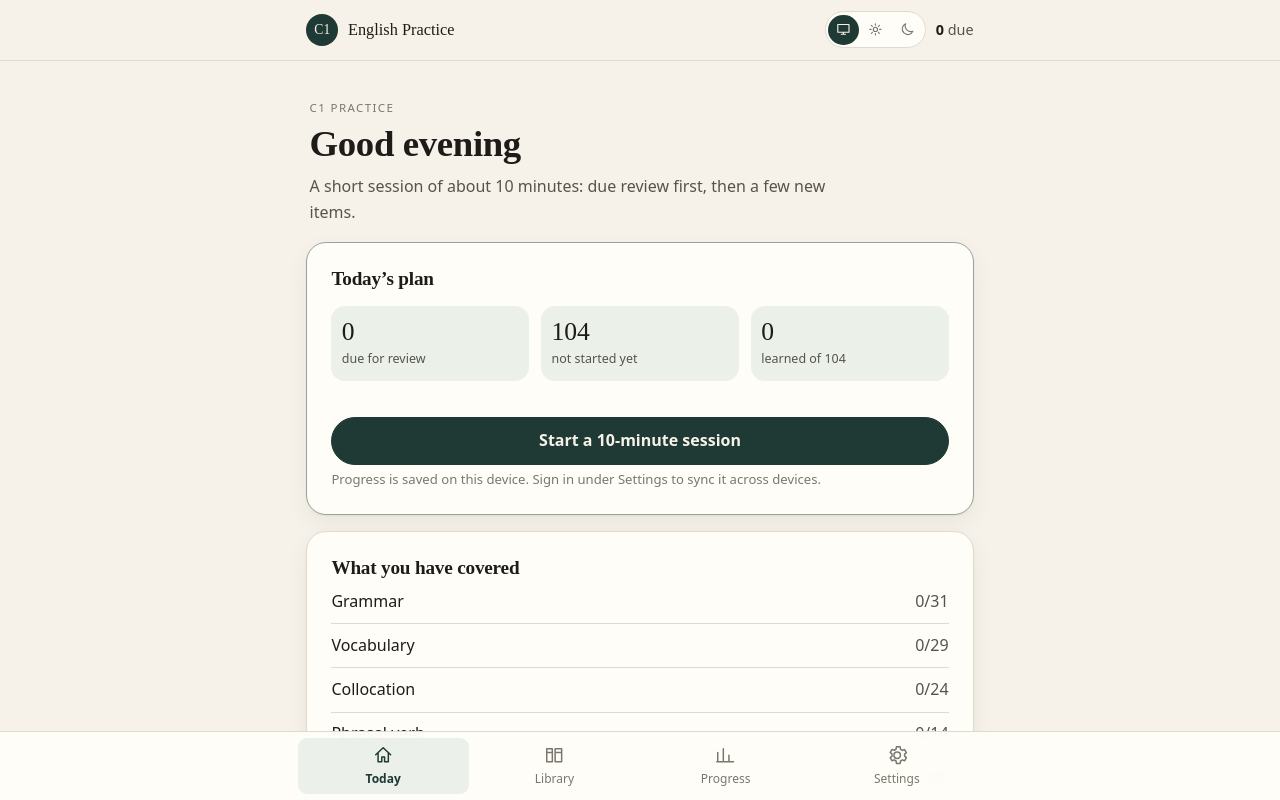
Test: App › offers a working backup export
Click the button "Settings" at (897, 766), box [811, 738, 982, 794]
(page scrolled)
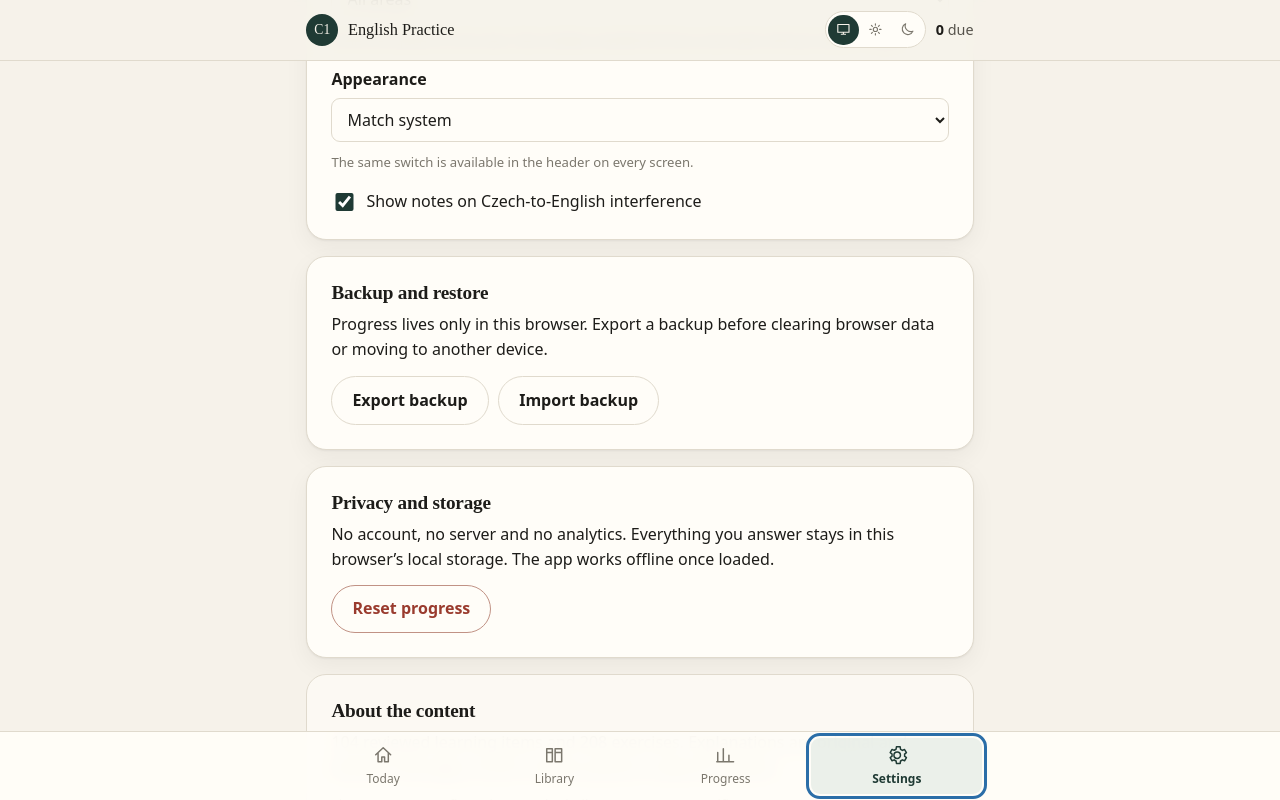
Click the button "Export backup" at (410, 401), box [331, 376, 489, 425]
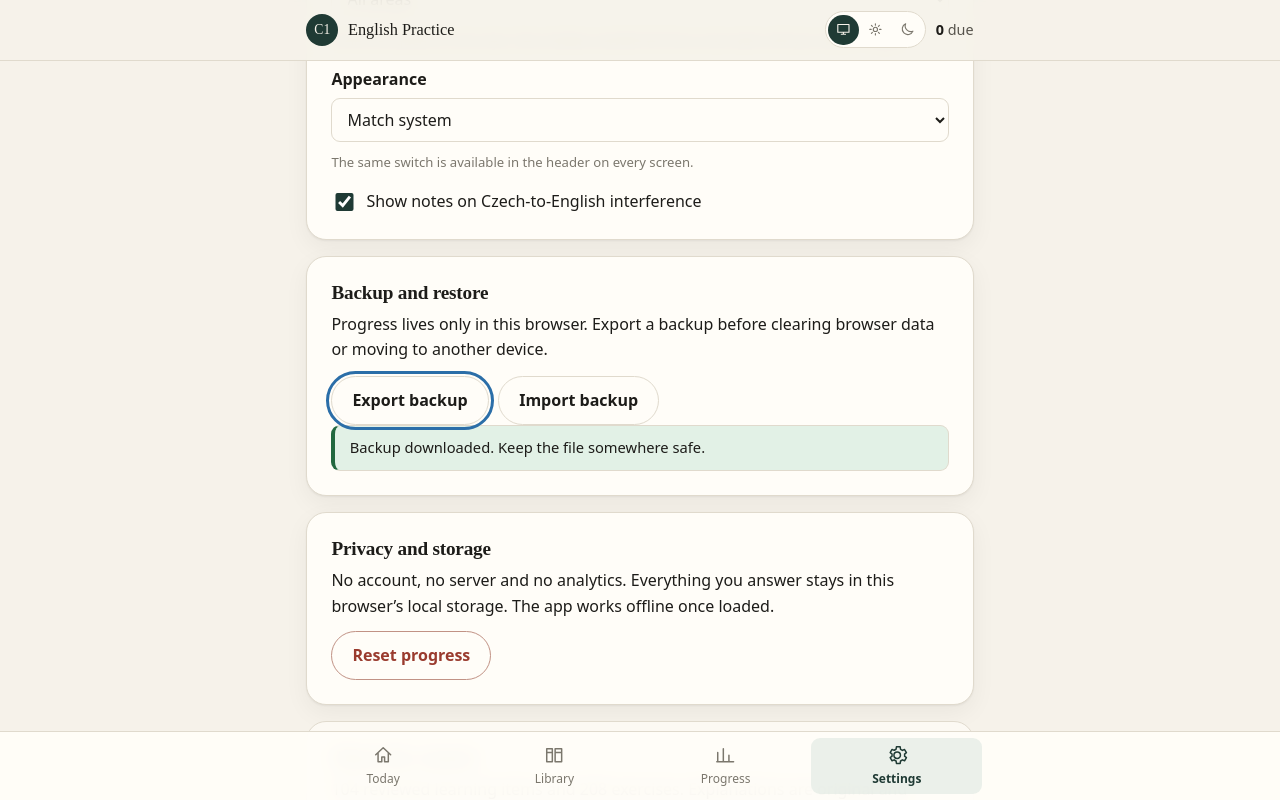
Result: the message shows "Backup downloaded" at [350, 437, 705, 457]
